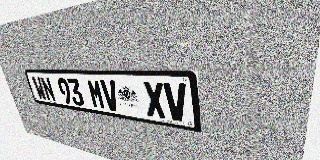3: (66, 78, 85, 106)
9: (56, 77, 74, 105)
M: (86, 79, 106, 110)
N: (40, 77, 56, 102)
V: (163, 82, 188, 122), (100, 79, 121, 112)
W: (31, 76, 47, 101)
X: (142, 81, 166, 119)
